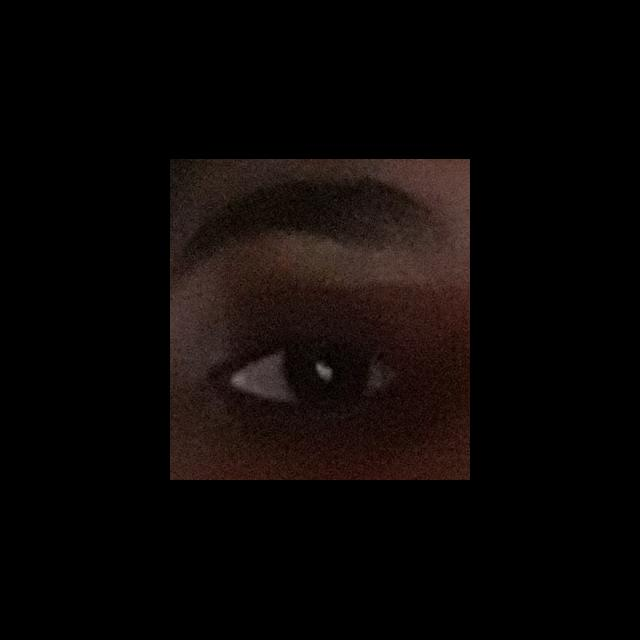eye: (229, 345, 396, 408)
iris: (282, 348, 371, 405)
